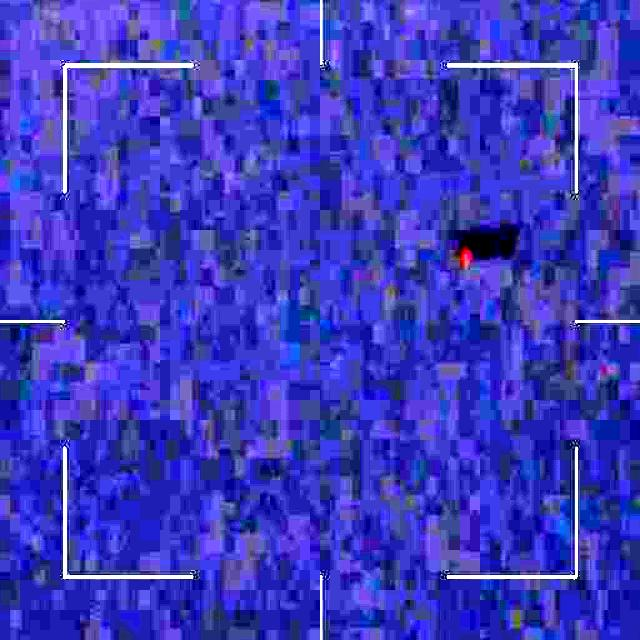bird: (455, 226, 478, 274)
